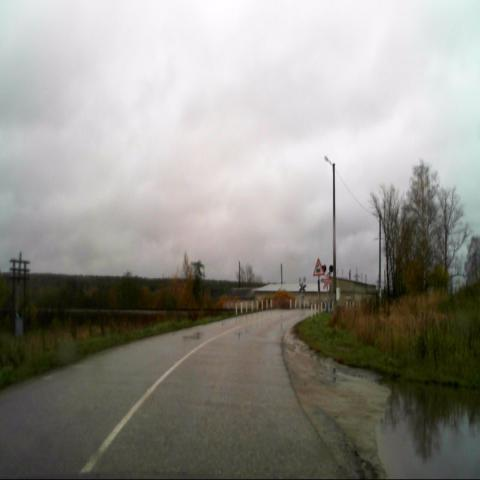1_2: (313, 257, 324, 277)
